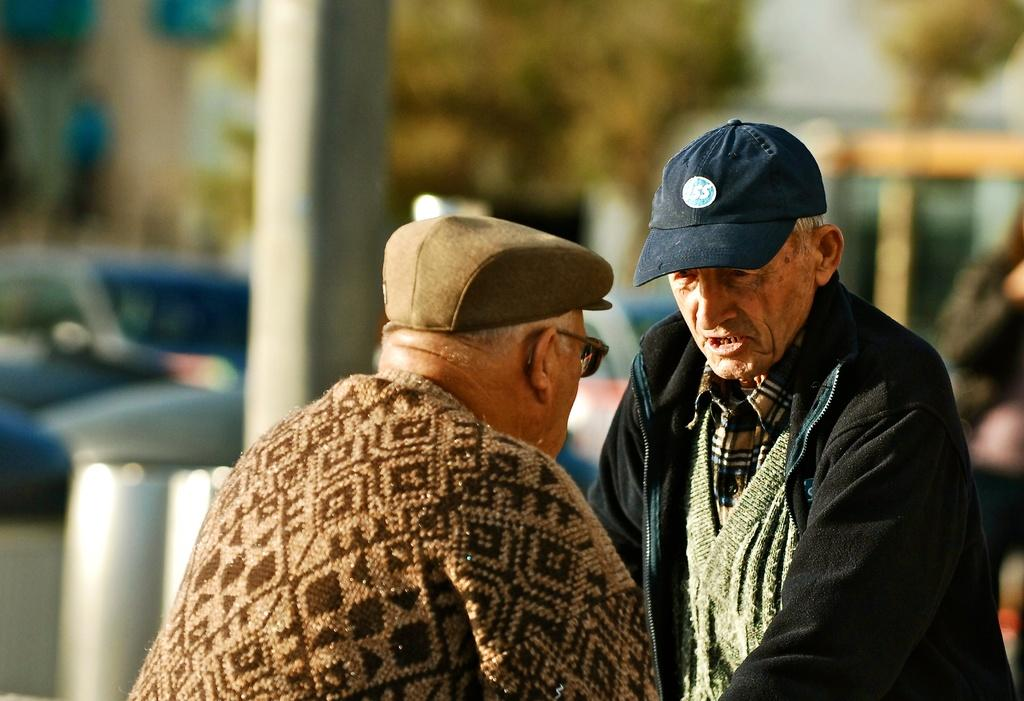Hat: (632, 114, 828, 287)
